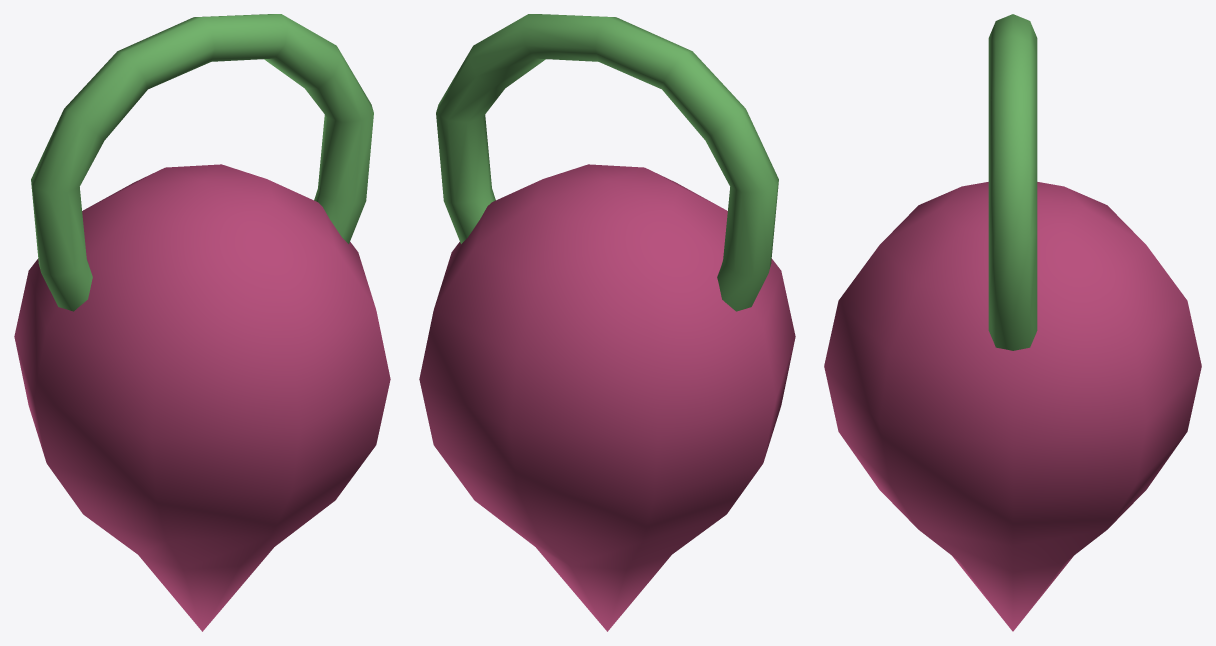
The model's file is Beet.fbx.
3 views of the same model, side by side, from view 1: azimuth 30°, elevation 25°; view 2: azimuth 150°, elevation 25°; view 3: azimuth 270°, elevation 25° (orthographic). The views are drawn at different scales.
Visible parts, largest first — view 1: Beet; view 2: Beet; view 3: Beet.
Part boxes in pixels (x1=…): Beet: x1=14, y1=14, x2=390, y2=631; Beet: x1=419, y1=14, x2=795, y2=631; Beet: x1=824, y1=14, x2=1201, y2=631.
Bounding box in the file's own units: 17.56 × 30.5 × 17.51.
